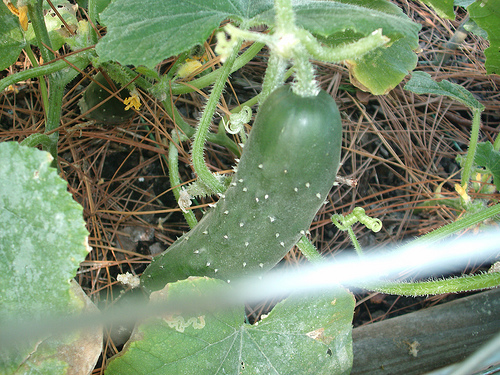cucumber: (110, 85, 343, 350)
